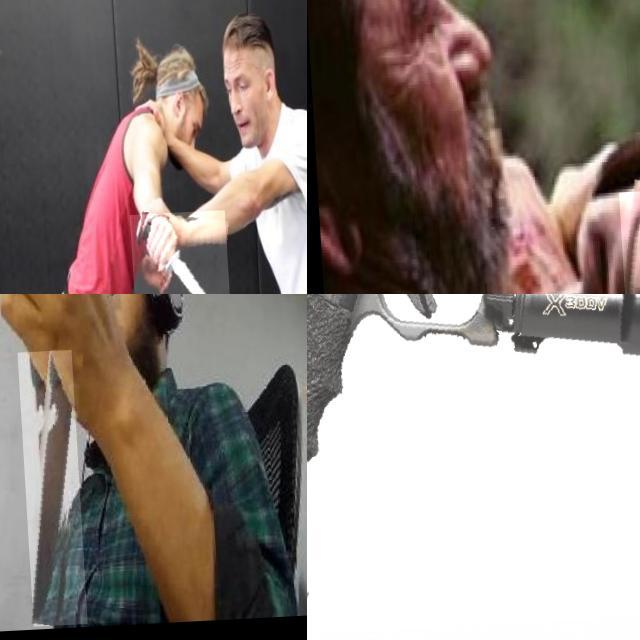-: (14, 354, 80, 630), (126, 213, 226, 294)
gun-knife-thesis - v11 Yolov5 augmented: (307, 294, 640, 640)
